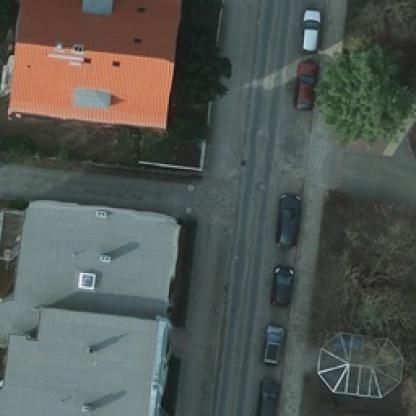car: (272, 193, 298, 252), (296, 5, 322, 60), (291, 57, 317, 110), (255, 368, 281, 414), (266, 264, 292, 310), (258, 320, 283, 364)
